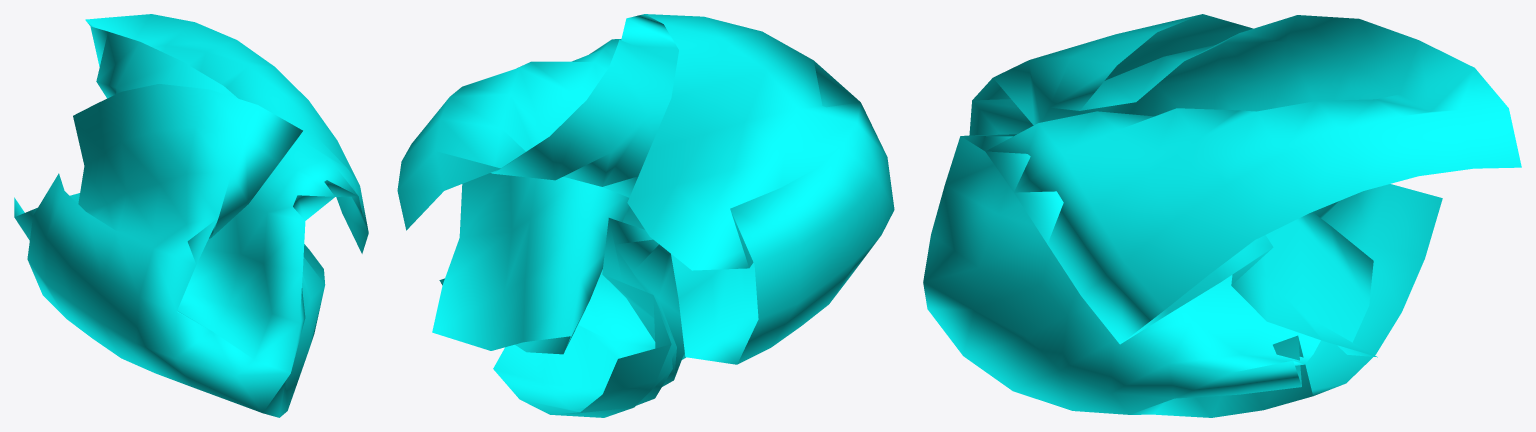
The model's file is furnishings-trash-candywrapper_v5.fbx.
3 renders of one model, left to right at view 1: azimuth 30°, elevation 25°; view 2: azimuth 150°, elevation 25°; view 3: azimuth 270°, elevation 25°, orthographic. The views are drawn at different scales.
Visible parts, largest first — view 1: CandyWrapper_v5; view 2: CandyWrapper_v5; view 3: CandyWrapper_v5.
Part boxes in pixels (x1=…): CandyWrapper_v5: x1=14, y1=14, x2=368, y2=417; CandyWrapper_v5: x1=397, y1=14, x2=894, y2=417; CandyWrapper_v5: x1=923, y1=14, x2=1521, y2=417.
Bounding box in the file's own units: 0.0375 × 0.0388 × 0.0552.
